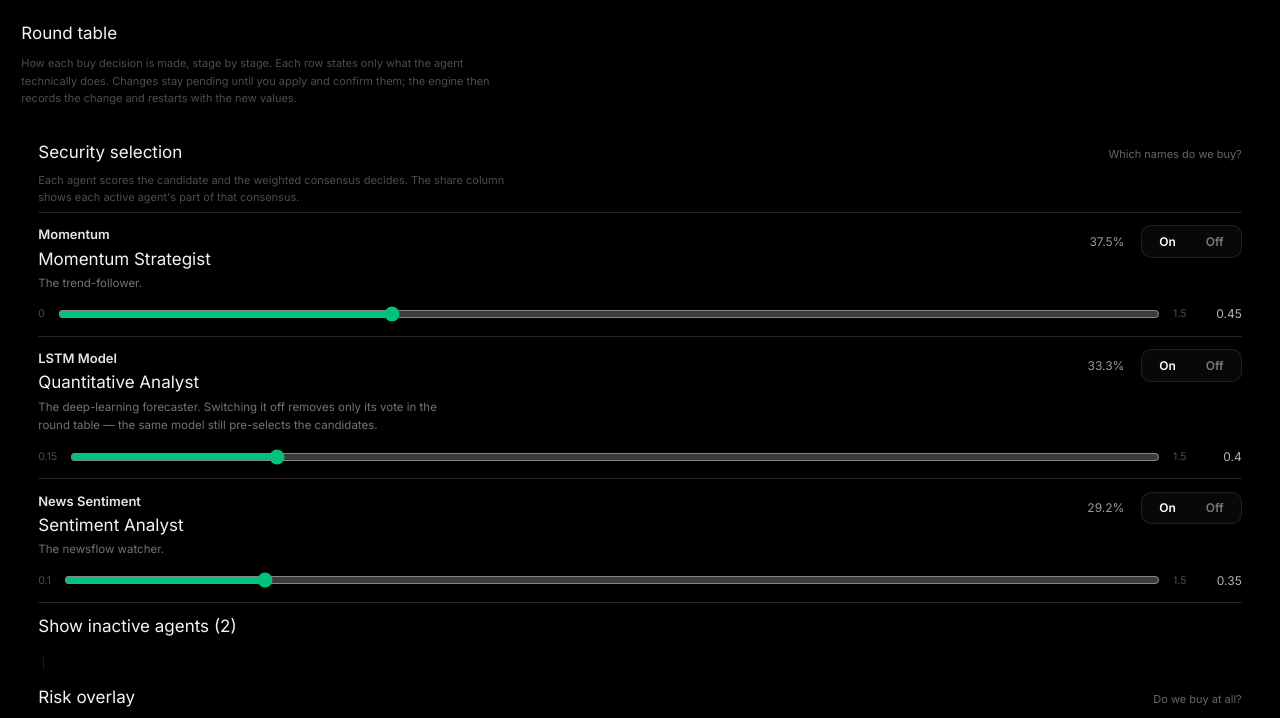
Round table card (UXC-1 S4) › T13: a visible Pending-changes list shows each staged change old to new and empties on reset
Expected: the text "Pending changes" is not shown
Set the slider named "MomentumAgent weight" to "0.6". click: (500, 314)
box: [58, 306, 1160, 322]
(page scrolled)
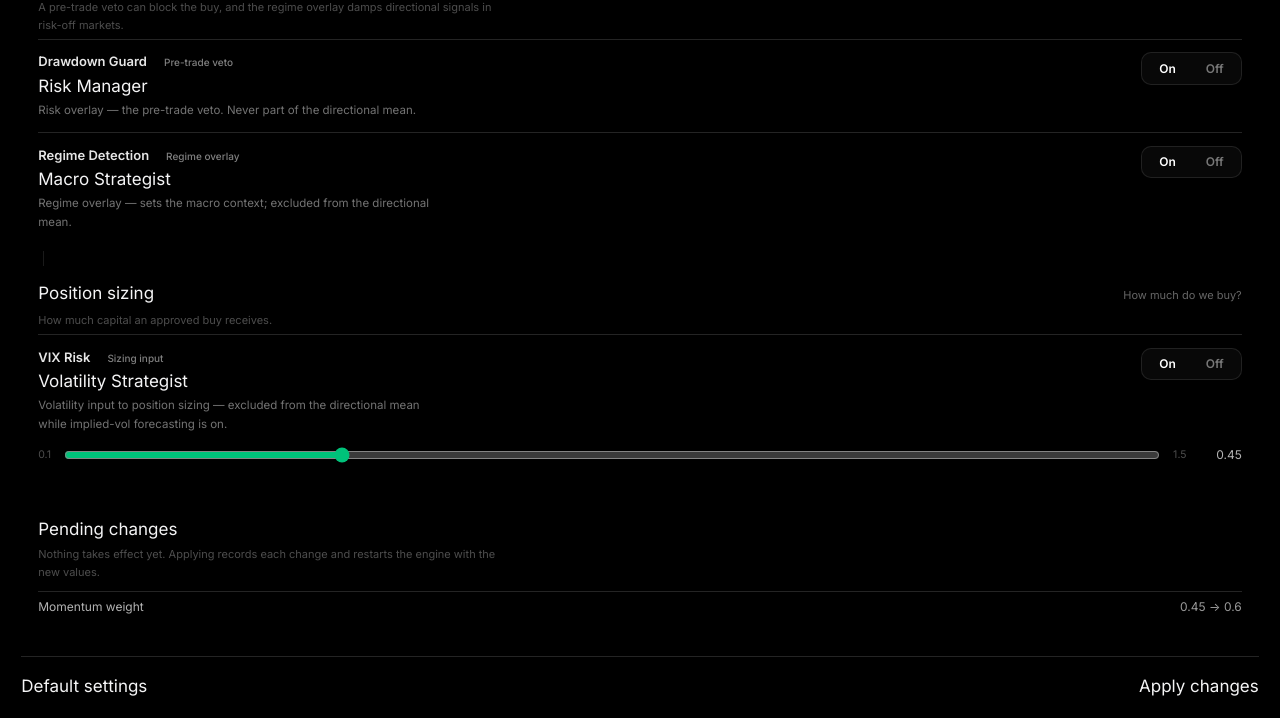
Expected: the text "Pending changes" is shown, [38, 519, 178, 539]
Expected: the element with test id "pending-changes" shows "Momentum", [38, 599, 144, 614]
Expected: the element with test id "pending-changes" shows "0.45", [1180, 599, 1206, 614]
Click the button "Default settings". click: (84, 686)
box: [21, 674, 147, 699]
(page scrolled)
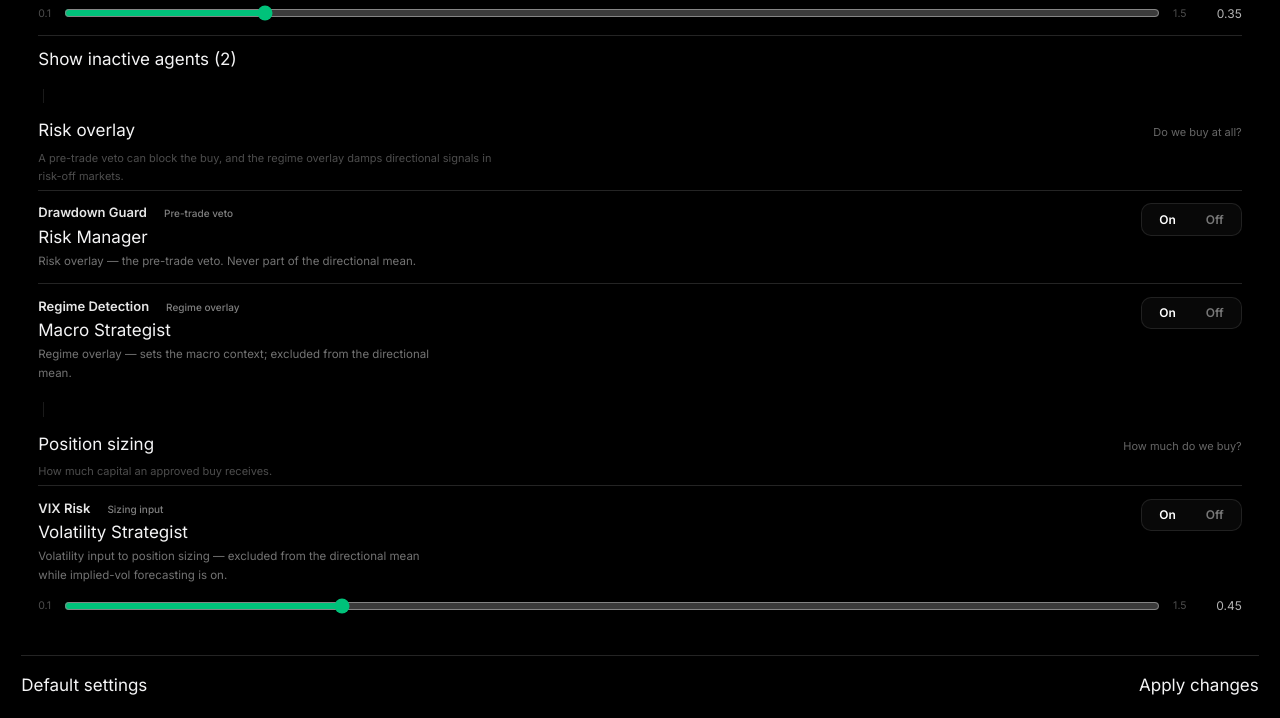
Expected: the text "Pending changes" is gone
